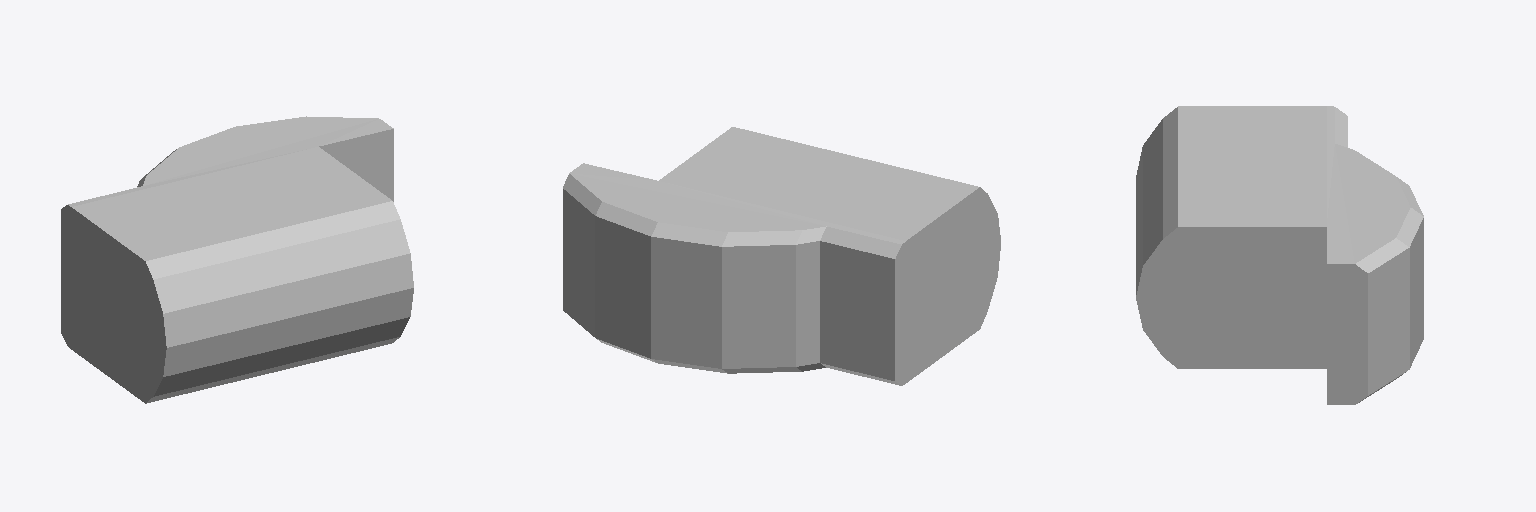
File: RHipRoll.obj
3 renders of one model, left to right at view 1: azimuth 30°, elevation 25°; view 2: azimuth 150°, elevation 25°; view 3: azimuth 270°, elevation 25°, orthographic.
Visible parts, largest first — view 1: root; view 2: root; view 3: root.
Boxes of the visible parts, x1=… form: root: x1=61, y1=116, x2=413, y2=403; root: x1=563, y1=127, x2=1000, y2=385; root: x1=1136, y1=106, x2=1423, y2=404.
Size of the model in its own units: 66.88 by 28.22 by 51.72.